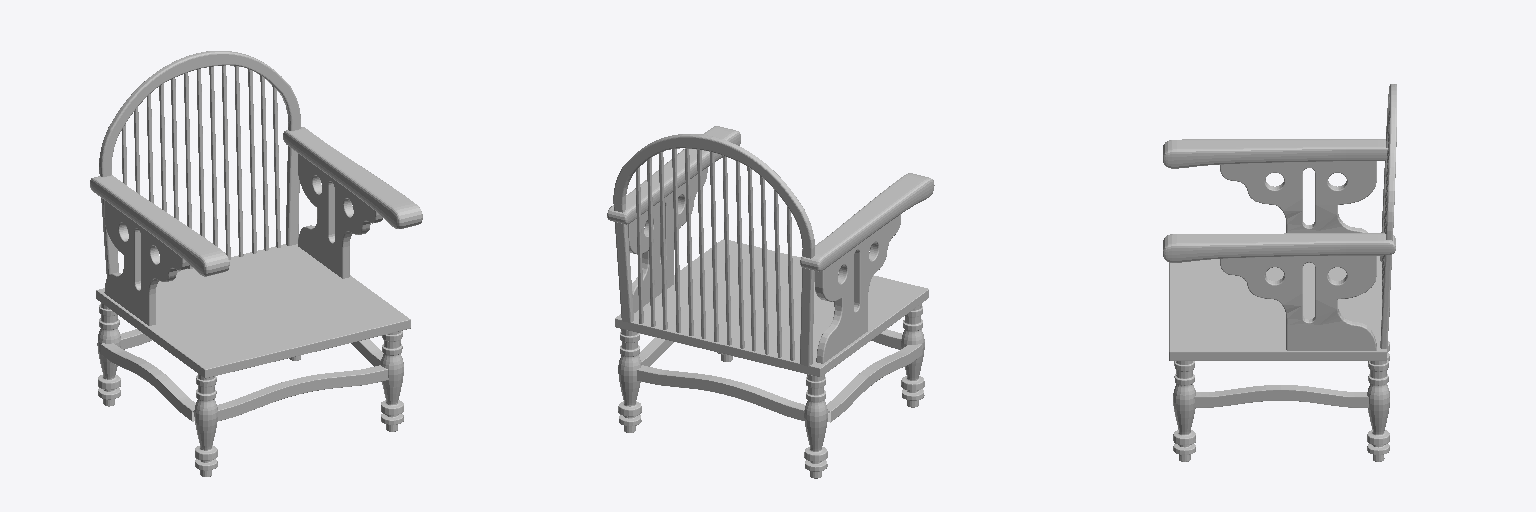
The model's file is SetA_Chair_Style_02.obj.
3 views of the same model, side by side, from view 1: azimuth 30°, elevation 25°; view 2: azimuth 150°, elevation 25°; view 3: azimuth 270°, elevation 25° (orthographic).
Visible parts, largest first — view 1: SetA_Chair_Style_02; view 2: SetA_Chair_Style_02; view 3: SetA_Chair_Style_02.
Part boxes in pixels (bbox=[...]): SetA_Chair_Style_02: bbox=[90, 51, 422, 476]; SetA_Chair_Style_02: bbox=[607, 126, 934, 478]; SetA_Chair_Style_02: bbox=[1163, 84, 1396, 461].
Size of the model in its own units: 0.8863 by 1.24 by 0.8225.